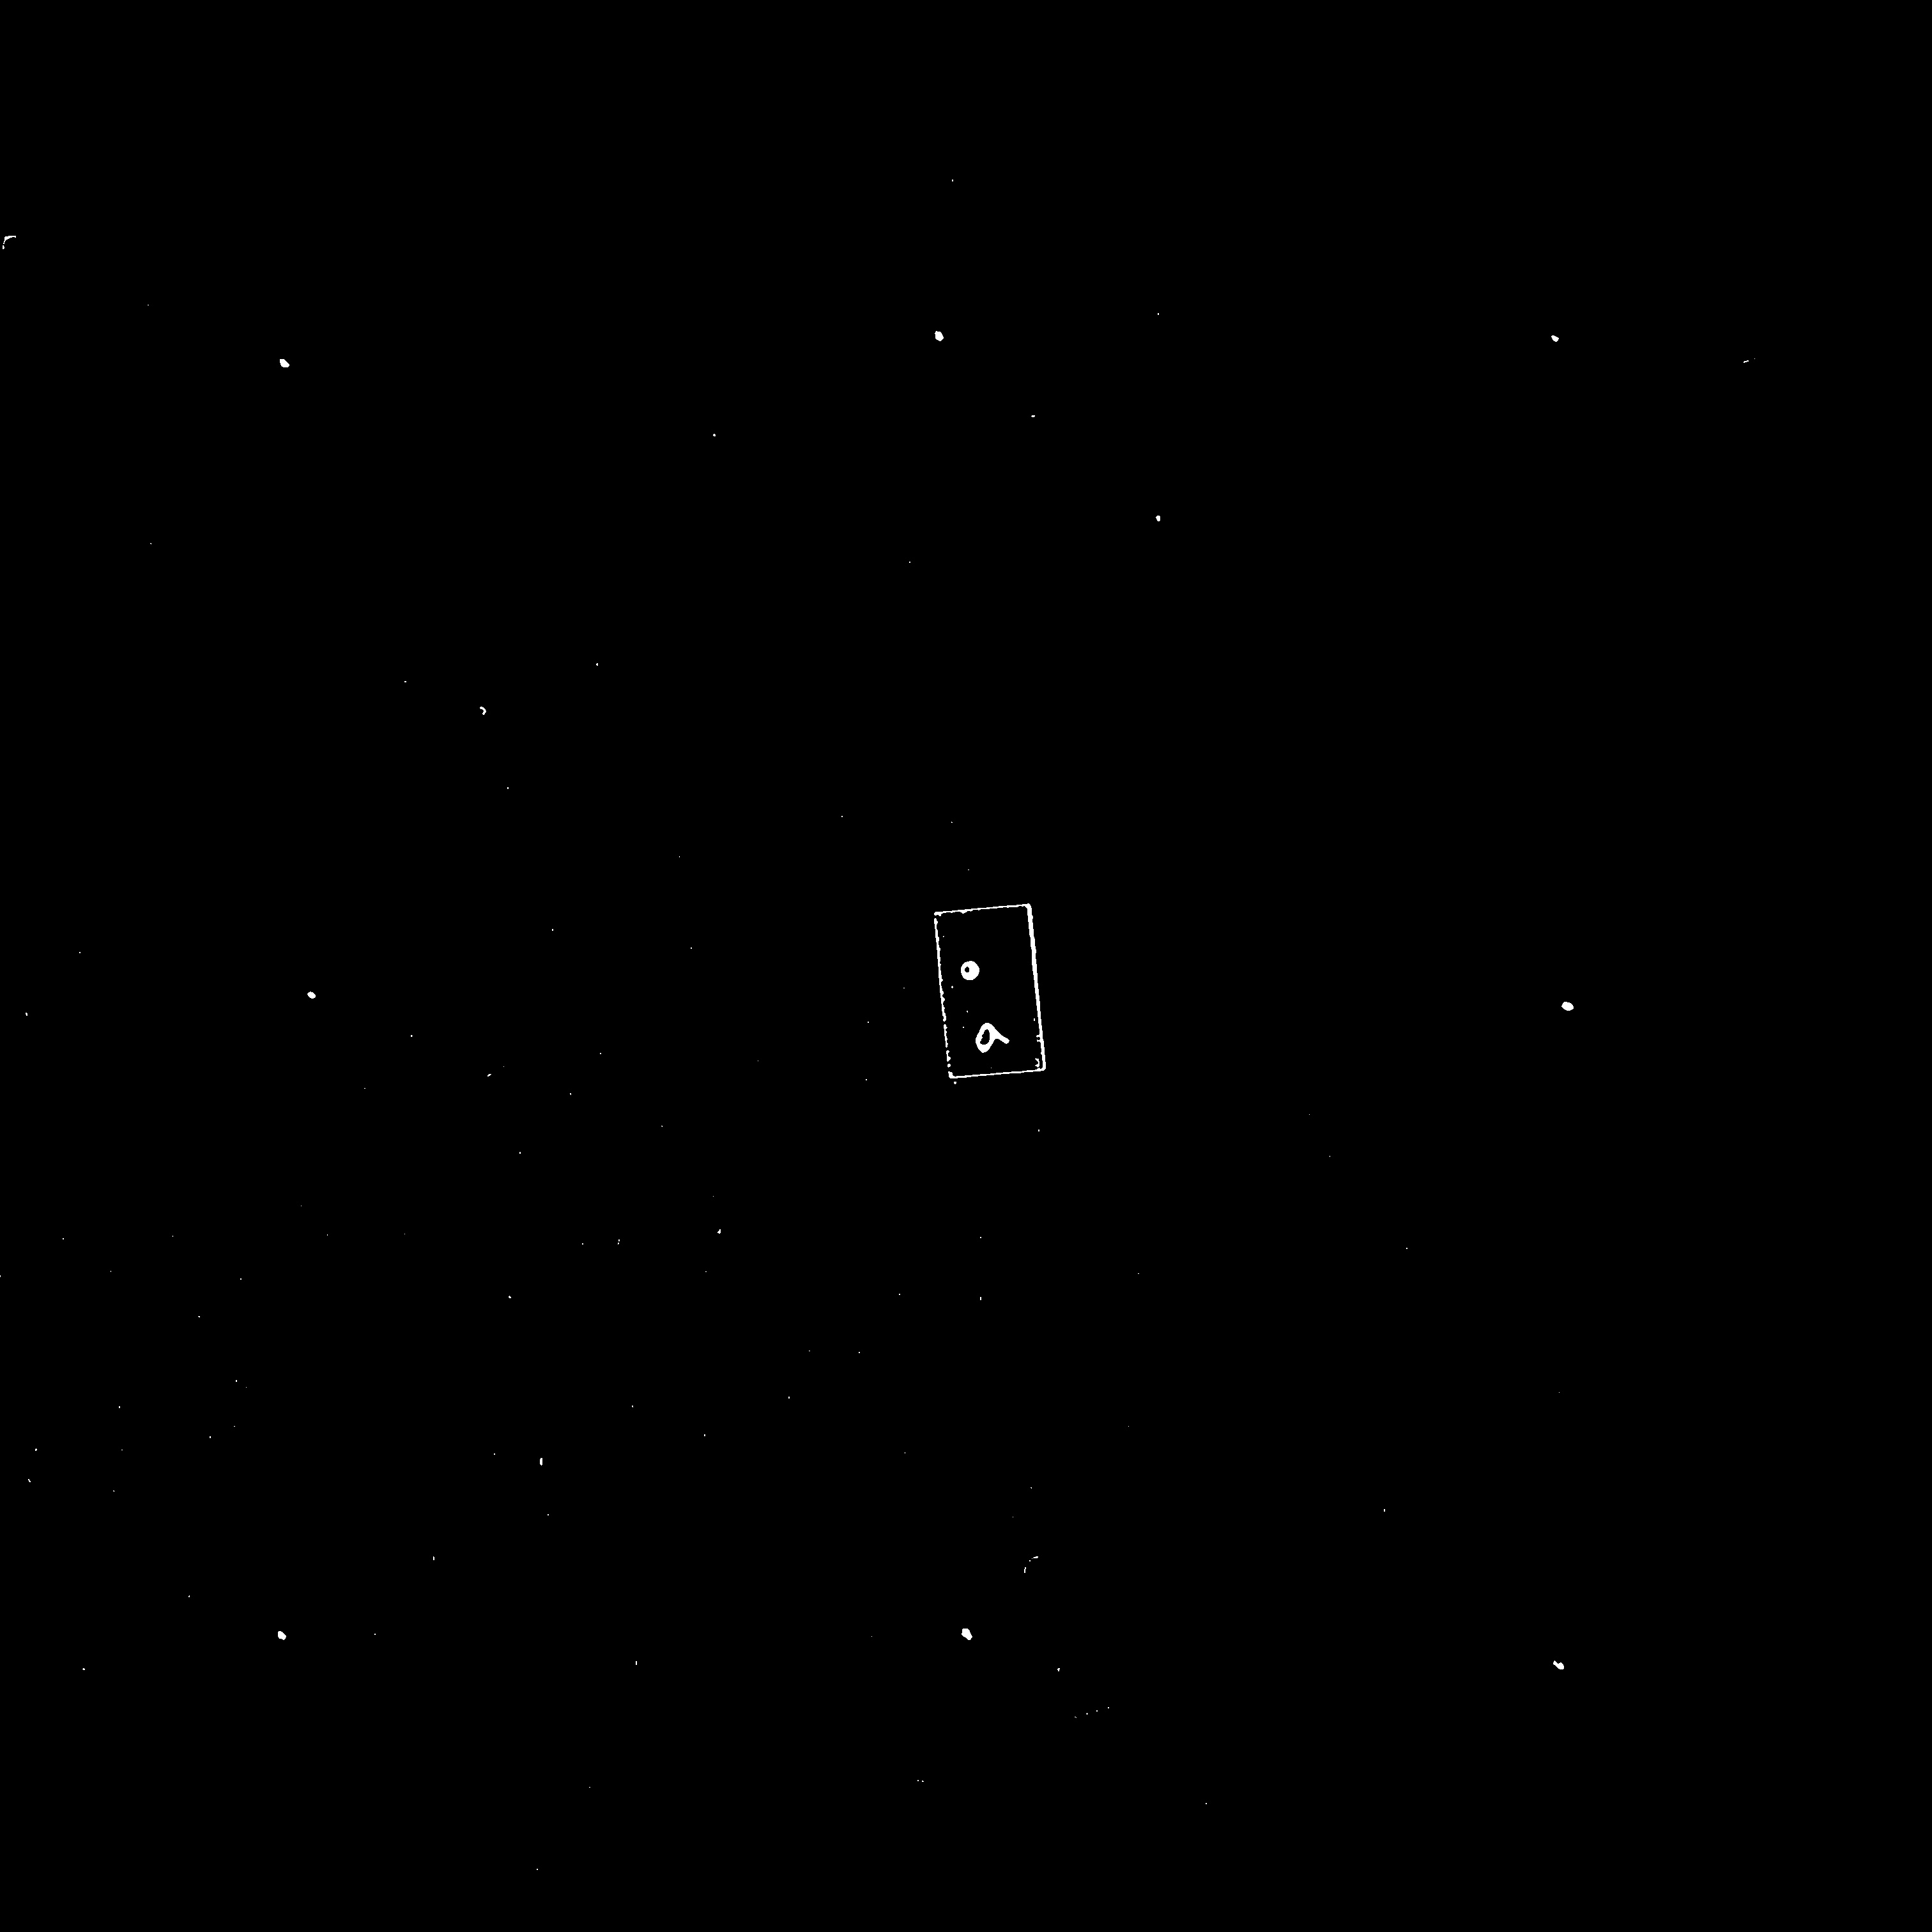a: (944, 936, 1009, 1031)
